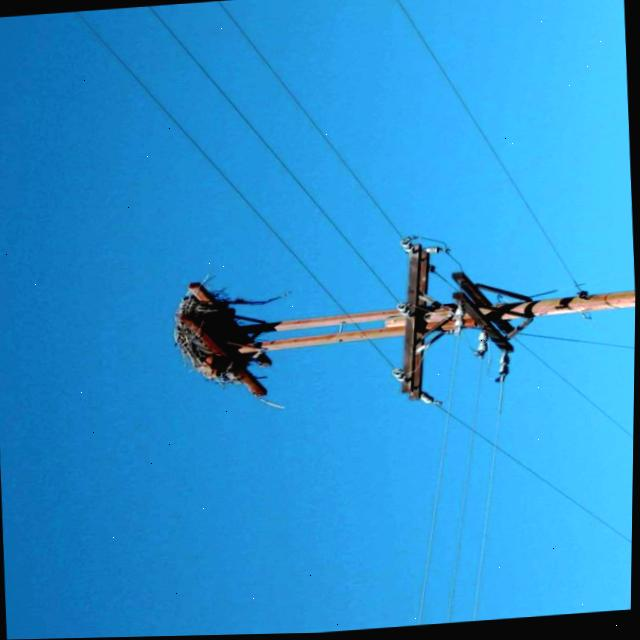obstruction: (177, 284, 278, 397)
poles: (261, 239, 635, 406)
wires: (73, 11, 348, 312), (144, 6, 394, 302), (390, 0, 588, 296), (419, 387, 634, 627), (214, 1, 403, 238), (518, 340, 635, 444)
